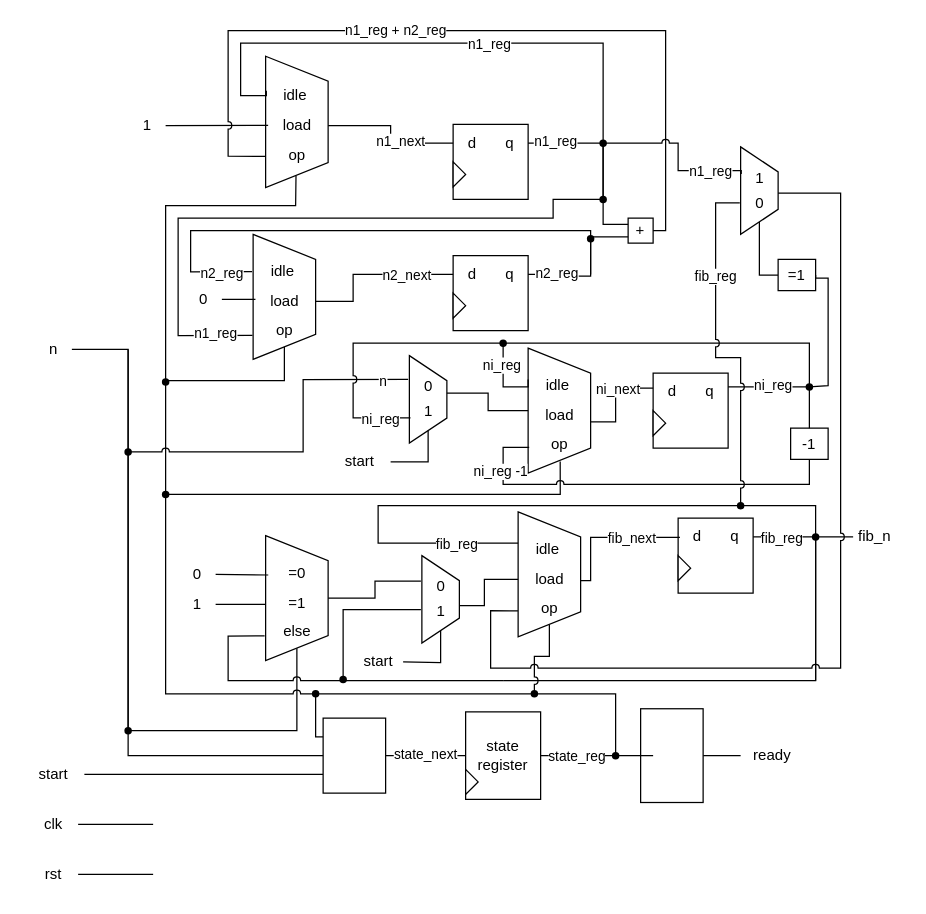
The diagram is 926 pixels wide and 914 high, and some of its shapes have lost their labels. The centre of each missing label's shape, as x and y in pixels:
"Next state logic" goes at point 354,755.
"output logic" goes at point 671,755.
